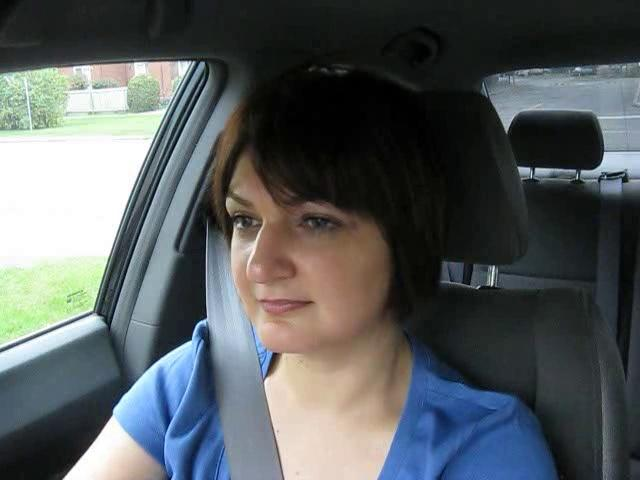no_yawn: (240, 284, 322, 323)
open_eyeL: (219, 206, 266, 237)
open_eyeR: (286, 204, 359, 244)
